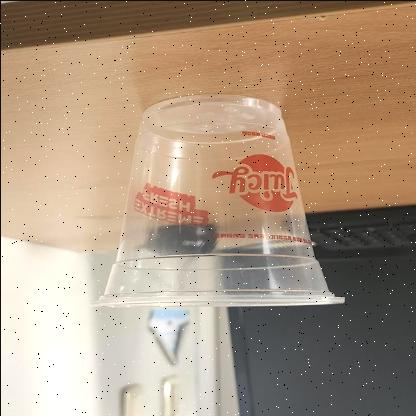Others: (89, 93, 346, 309)
